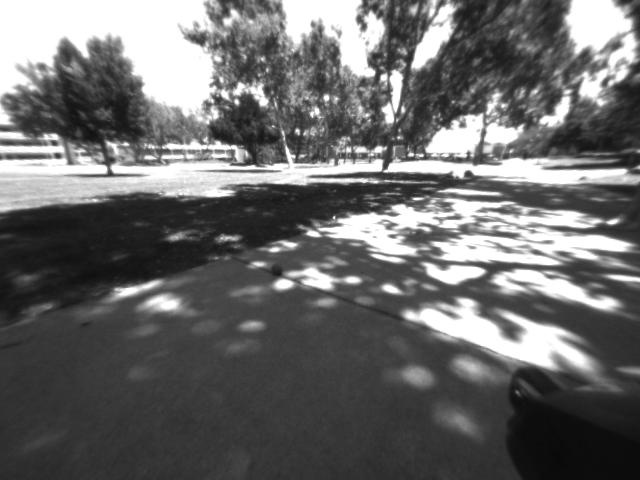dogtoy: (264, 259, 289, 281)
